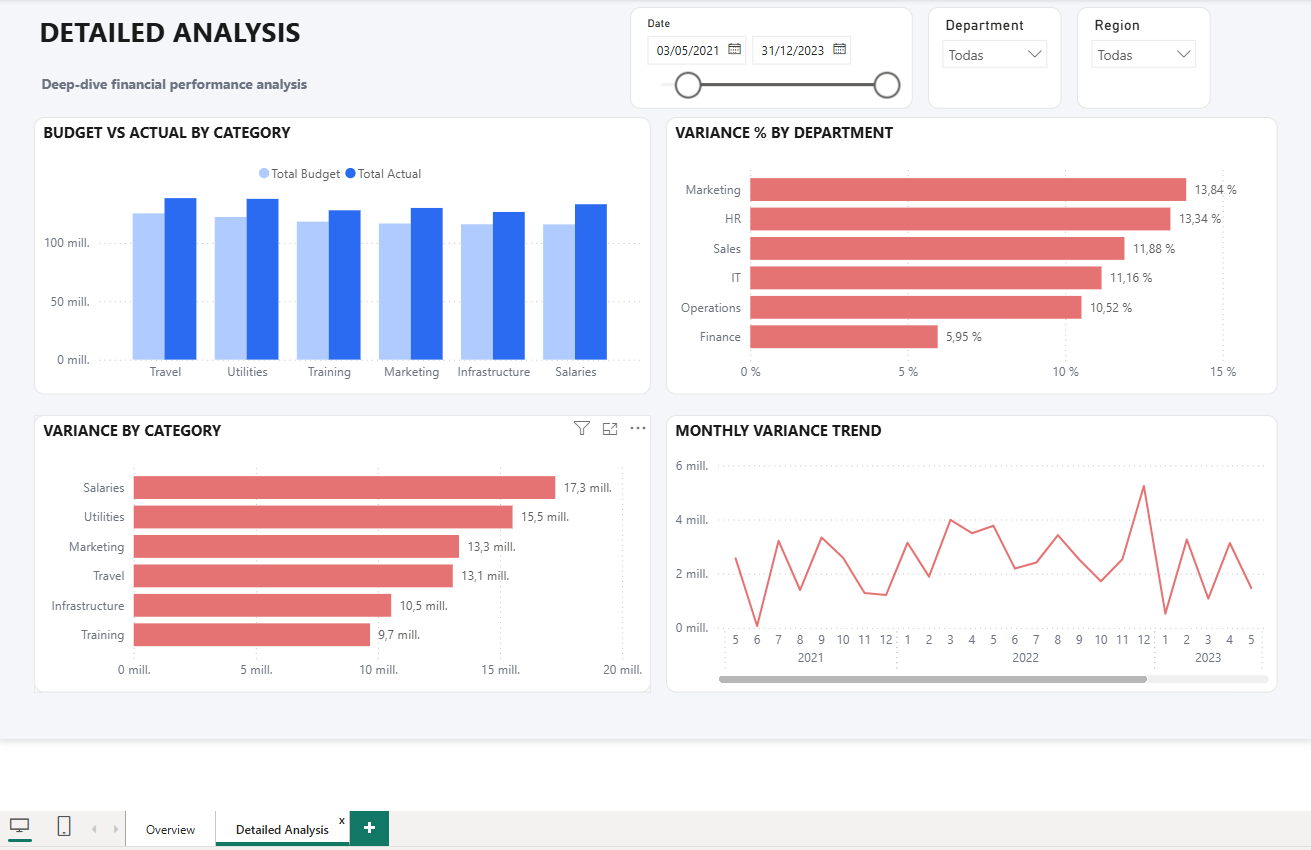

The page's visual inventory and layout, read from the dashboard file:
{"tool":"powerbi","page":{"name":"Detailed Analysis","canvas":[1280,720],"ordinal":1},"visuals":[{"type":"textbox","box":[35,7.8,565.1,57.4],"z":0},{"type":"textbox","box":[37,68.1,563.2,30.2],"z":1000},{"type":"slicer","fields":{"Values":["dim_date.date_id"]},"box":[614.7,7.8,275.3,99.2],"z":2000},{"type":"slicer","fields":{"Values":["dim_department.department"]},"box":[904.6,7.8,130.3,99.2],"z":3000},{"type":"slicer","fields":{"Values":["dim_region.region"]},"box":[1049.5,7.8,130.3,99.2],"z":4000},{"type":"clusteredColumnChart","title":"BUDGET VS ACTUAL BY CATEGORY","fields":{"Category":["dim_category.category"],"Y":["_Medidas.Total Budget","_Medidas.Total Actual"]},"box":[35,115,600,270],"z":5000},{"type":"clusteredBarChart","title":"VARIANCE % BY DEPARTMENT","fields":{"Category":["dim_department.department"],"Y":["_Medidas.Variance %"]},"box":[650,115,595,270],"z":6000},{"type":"clusteredBarChart","title":"VARIANCE BY CATEGORY","fields":{"Category":["dim_category.category"],"Y":["_Medidas.Variance"]},"box":[35,405,600,270],"z":7000},{"type":"lineChart","title":"MONTHLY VARIANCE TREND","fields":{"Y":["_Medidas.Variance"],"Category":["dim_date.year","dim_date.month"]},"box":[650,405,595,270],"z":8000}]}

Visuals, with their boxes on the page's 1280x720 design canvas (x1, y1, x2, y2). These are canvas units, not pixel positions in the 1311x850 screenshot, which may show the page scaled, cropped or inside an application window:
textbox: 35/8/600/65
textbox: 37/68/600/98
slicer - dim_date.date_id: 615/8/890/107
slicer - dim_department.department: 905/8/1035/107
slicer - dim_region.region: 1050/8/1180/107
"BUDGET VS ACTUAL BY CATEGORY" clusteredColumnChart: 35/115/635/385
"VARIANCE % BY DEPARTMENT" clusteredBarChart: 650/115/1245/385
"VARIANCE BY CATEGORY" clusteredBarChart: 35/405/635/675
"MONTHLY VARIANCE TREND" lineChart: 650/405/1245/675
